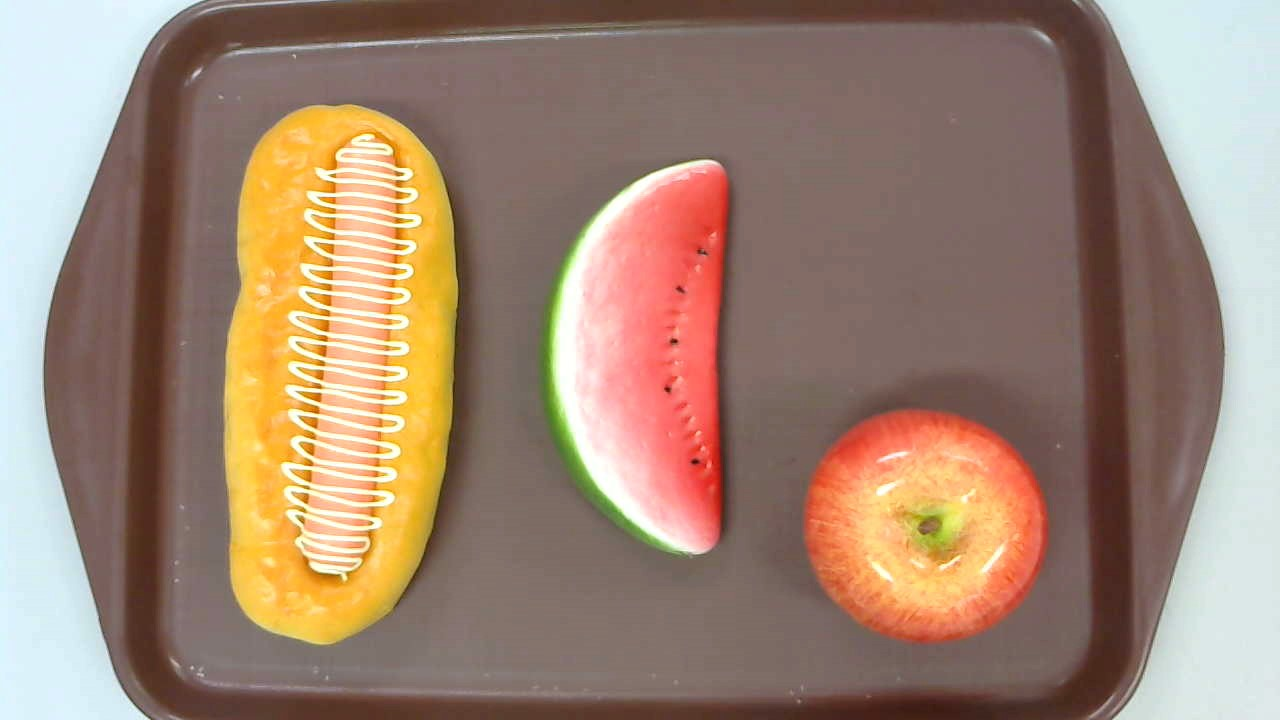hot dog: (223, 104, 459, 645)
red apple: (803, 408, 1048, 646)
water melon: (539, 158, 731, 559)
